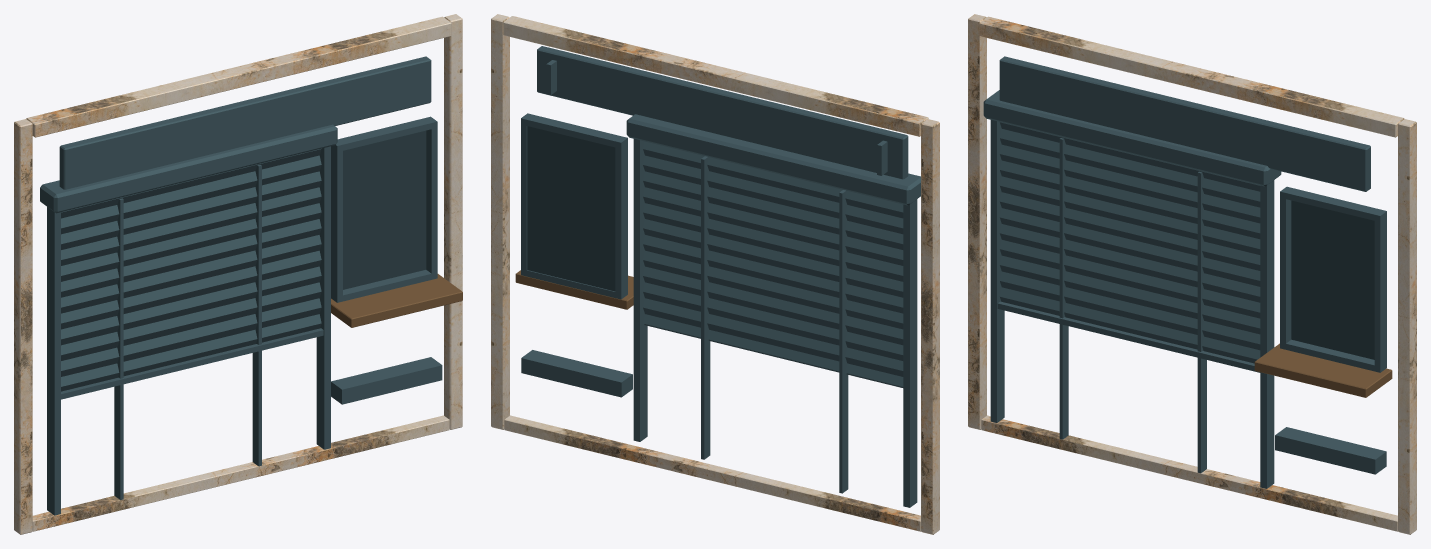
File: facade_workshop_ground.glb
3 renders of one model, left to right at view 1: azimuth 30°, elevation 25°; view 2: azimuth 150°, elevation 25°; view 3: azimuth 330°, elevation 25°, orthographic.
Parts seen in each view (by area): view 1: facade_workshop_ground__VVK_painted_steel, facade_workshop_ground__VVK_concrete_CC0, facade_workshop_ground__VVK_dark_glass, facade_workshop_ground__VVK_weathered_wood; view 2: facade_workshop_ground__VVK_painted_steel, facade_workshop_ground__VVK_concrete_CC0, facade_workshop_ground__VVK_dark_glass, facade_workshop_ground__VVK_weathered_wood; view 3: facade_workshop_ground__VVK_painted_steel, facade_workshop_ground__VVK_concrete_CC0, facade_workshop_ground__VVK_dark_glass, facade_workshop_ground__VVK_weathered_wood.
Boxes of the visible parts, x1=… form: facade_workshop_ground__VVK_painted_steel: x1=40, y1=56, x2=442, y2=515; facade_workshop_ground__VVK_concrete_CC0: x1=14, y1=14, x2=462, y2=534; facade_workshop_ground__VVK_dark_glass: x1=343, y1=130, x2=426, y2=289; facade_workshop_ground__VVK_weathered_wood: x1=331, y1=274, x2=462, y2=327; facade_workshop_ground__VVK_painted_steel: x1=521, y1=46, x2=920, y2=507; facade_workshop_ground__VVK_concrete_CC0: x1=491, y1=14, x2=939, y2=534; facade_workshop_ground__VVK_dark_glass: x1=527, y1=126, x2=615, y2=291; facade_workshop_ground__VVK_weathered_wood: x1=515, y1=270, x2=633, y2=309; facade_workshop_ground__VVK_painted_steel: x1=983, y1=56, x2=1386, y2=488; facade_workshop_ground__VVK_concrete_CC0: x1=968, y1=14, x2=1416, y2=534; facade_workshop_ground__VVK_dark_glass: x1=1291, y1=200, x2=1374, y2=359; facade_workshop_ground__VVK_weathered_wood: x1=1254, y1=343, x2=1392, y2=397.
Bounding box in the file's own units: 3.4 × 3 × 0.393.
4 materials, 1 textured.
